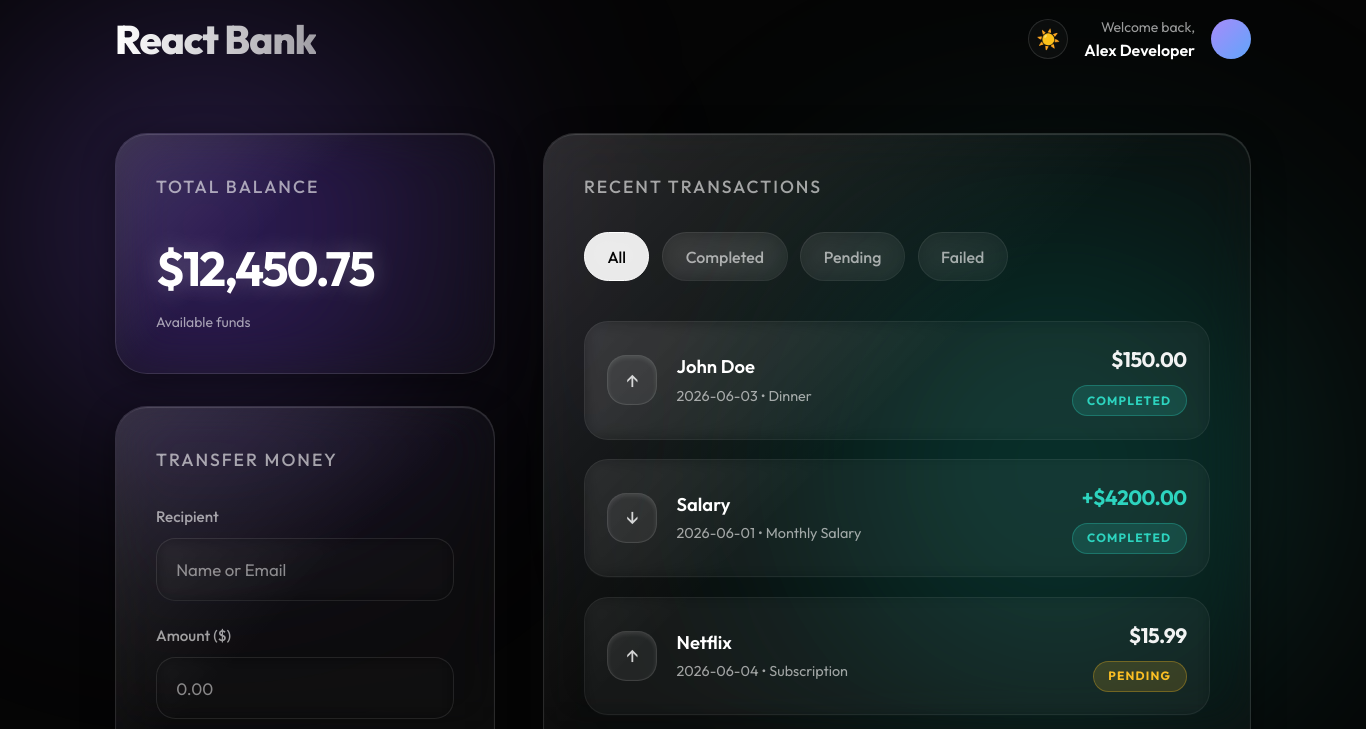
Scenario: User Journey: Transfer success › Scenario: User fills transfer form and sees the transaction complete
The image size is (1366, 729).
Expected: the heading "John Doe" is shown, [677,355,755,378]
Type "Alice" into the field with placeholder "Name or Email".
click(305, 569); type("Alice")  # box [156,538,454,601]
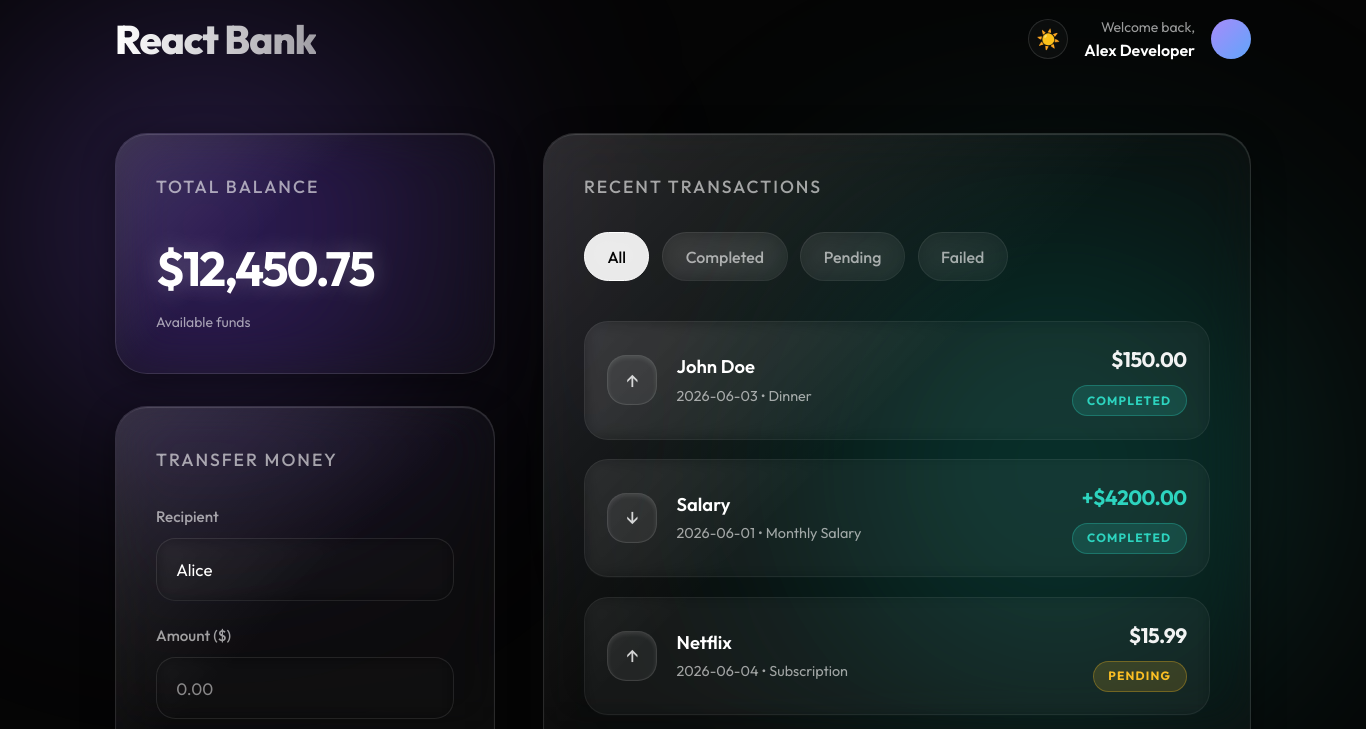
Type "50" into the number field with placeholder "0.00".
click(305, 688); type("50")  # box [156,657,454,719]
(page scrolled)
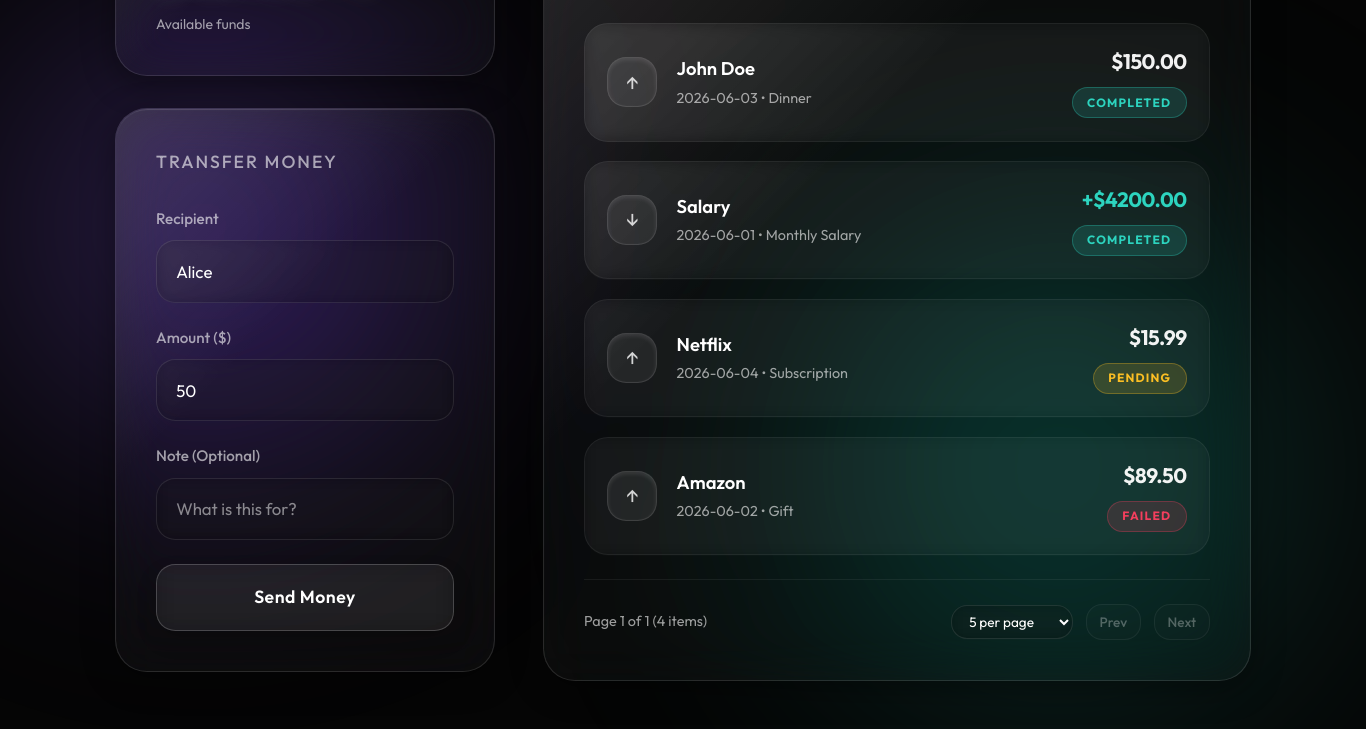
Type "Dinner tonight" into the field with placeholder "What is this for?".
click(305, 509); type("Dinner tonight")  # box [156,478,454,540]
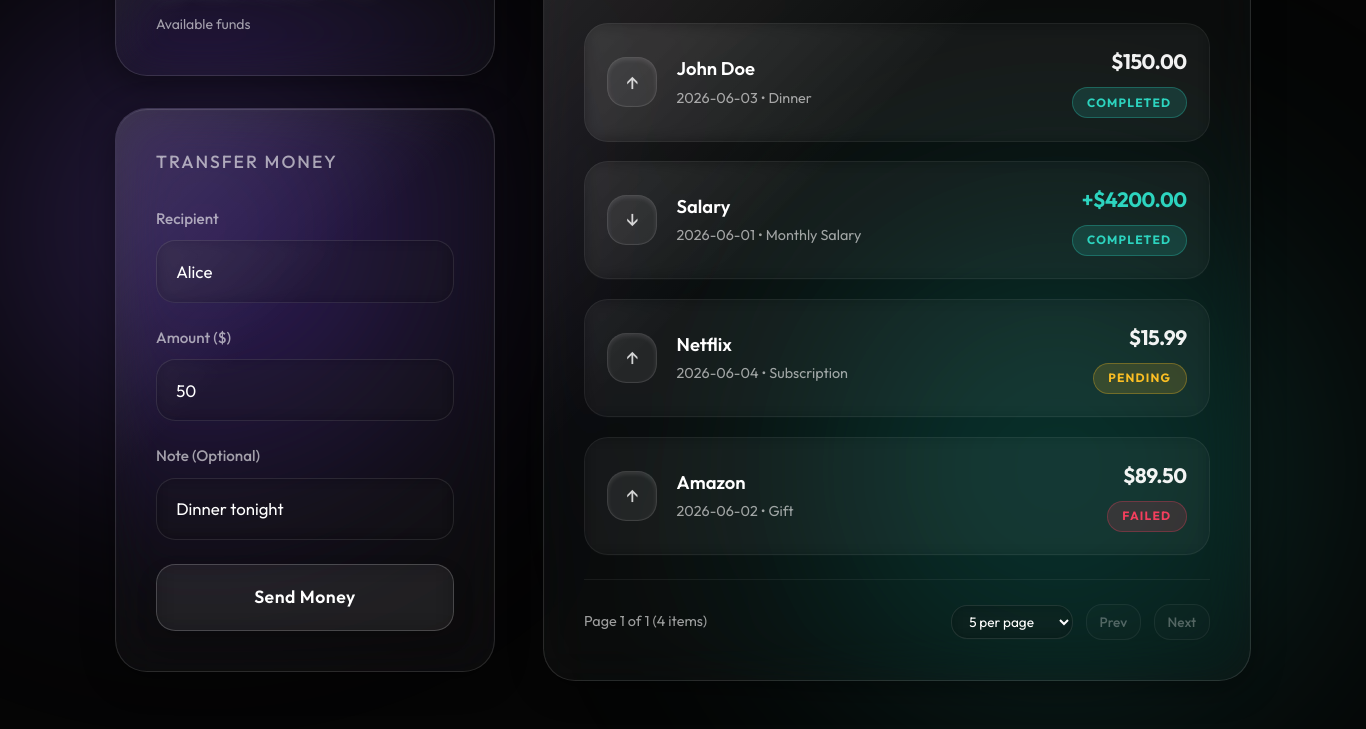
Click the button "Send Money".
click(305, 598)  # box [156,564,454,631]
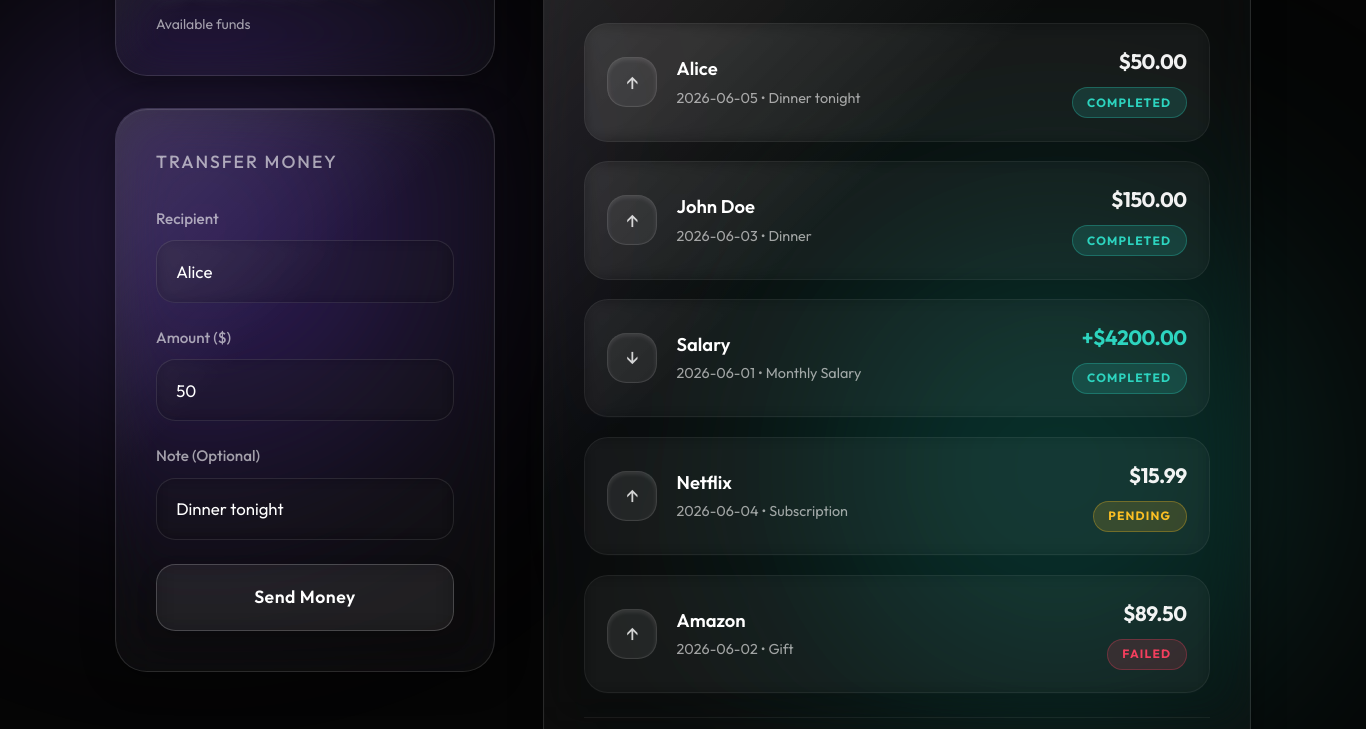
Now the heading "Alice" is shown, box [677,57,718,80]
Now the text "$50.00" is shown, box [1118,48,1187,74]
Now the list item with aria-label "Alice completed transaction" is shown, box [584,23,1210,142]
